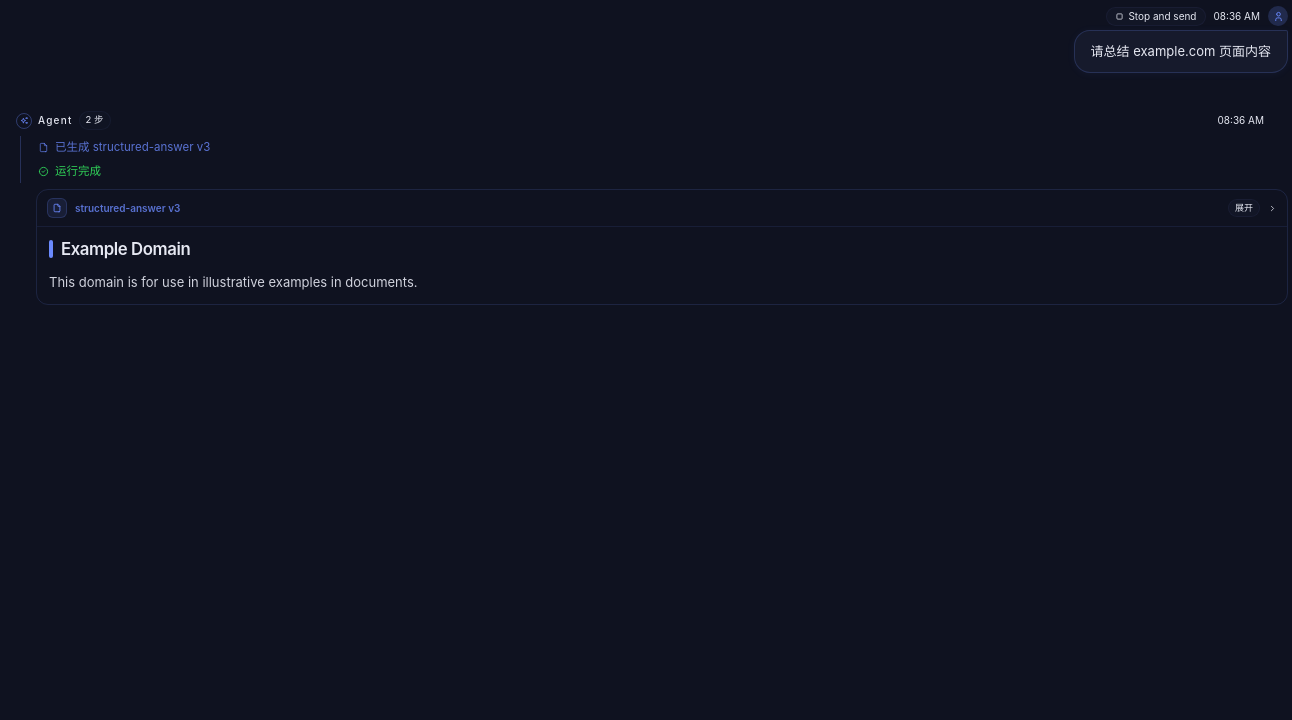
Scenario: RunTimeline › renders structured-answer summary cards with markdown body and collapsed auxiliary content
Expected: the text "structured-answer v3" is shown, [75,202,180,214]
Expected: the heading "Example Domain" is shown, [49,239,190,259]
Click the button "structured-answer v3 展开".
click(128, 208)  # box [37,190,1287,226]
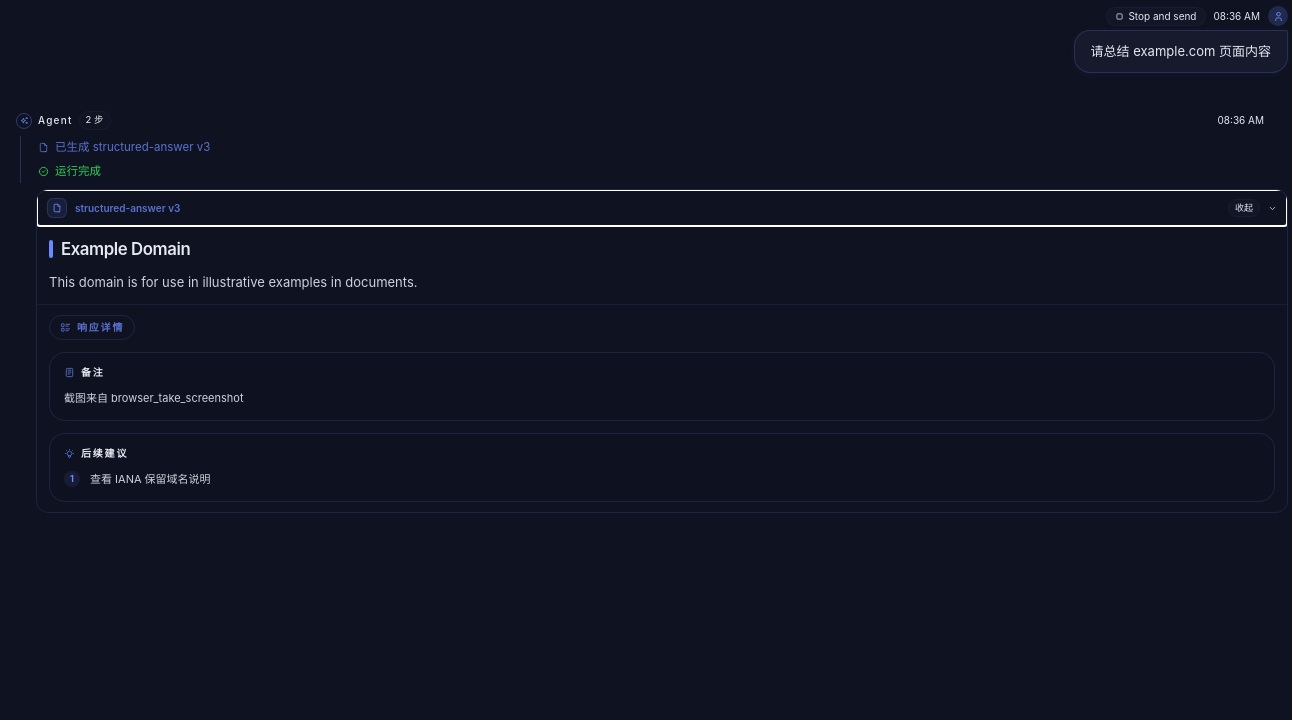
Expected: the text "截图来自 browser_take_screenshot" is shown, [64,391,244,405]
Expected: the text "查看 IANA 保留域名说明" is shown, [90,469,211,489]
